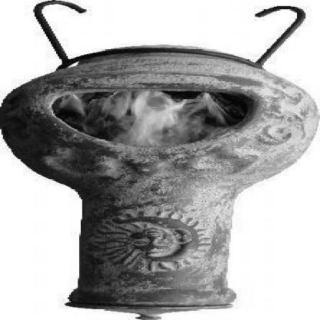Fire: (57, 92, 243, 146)
